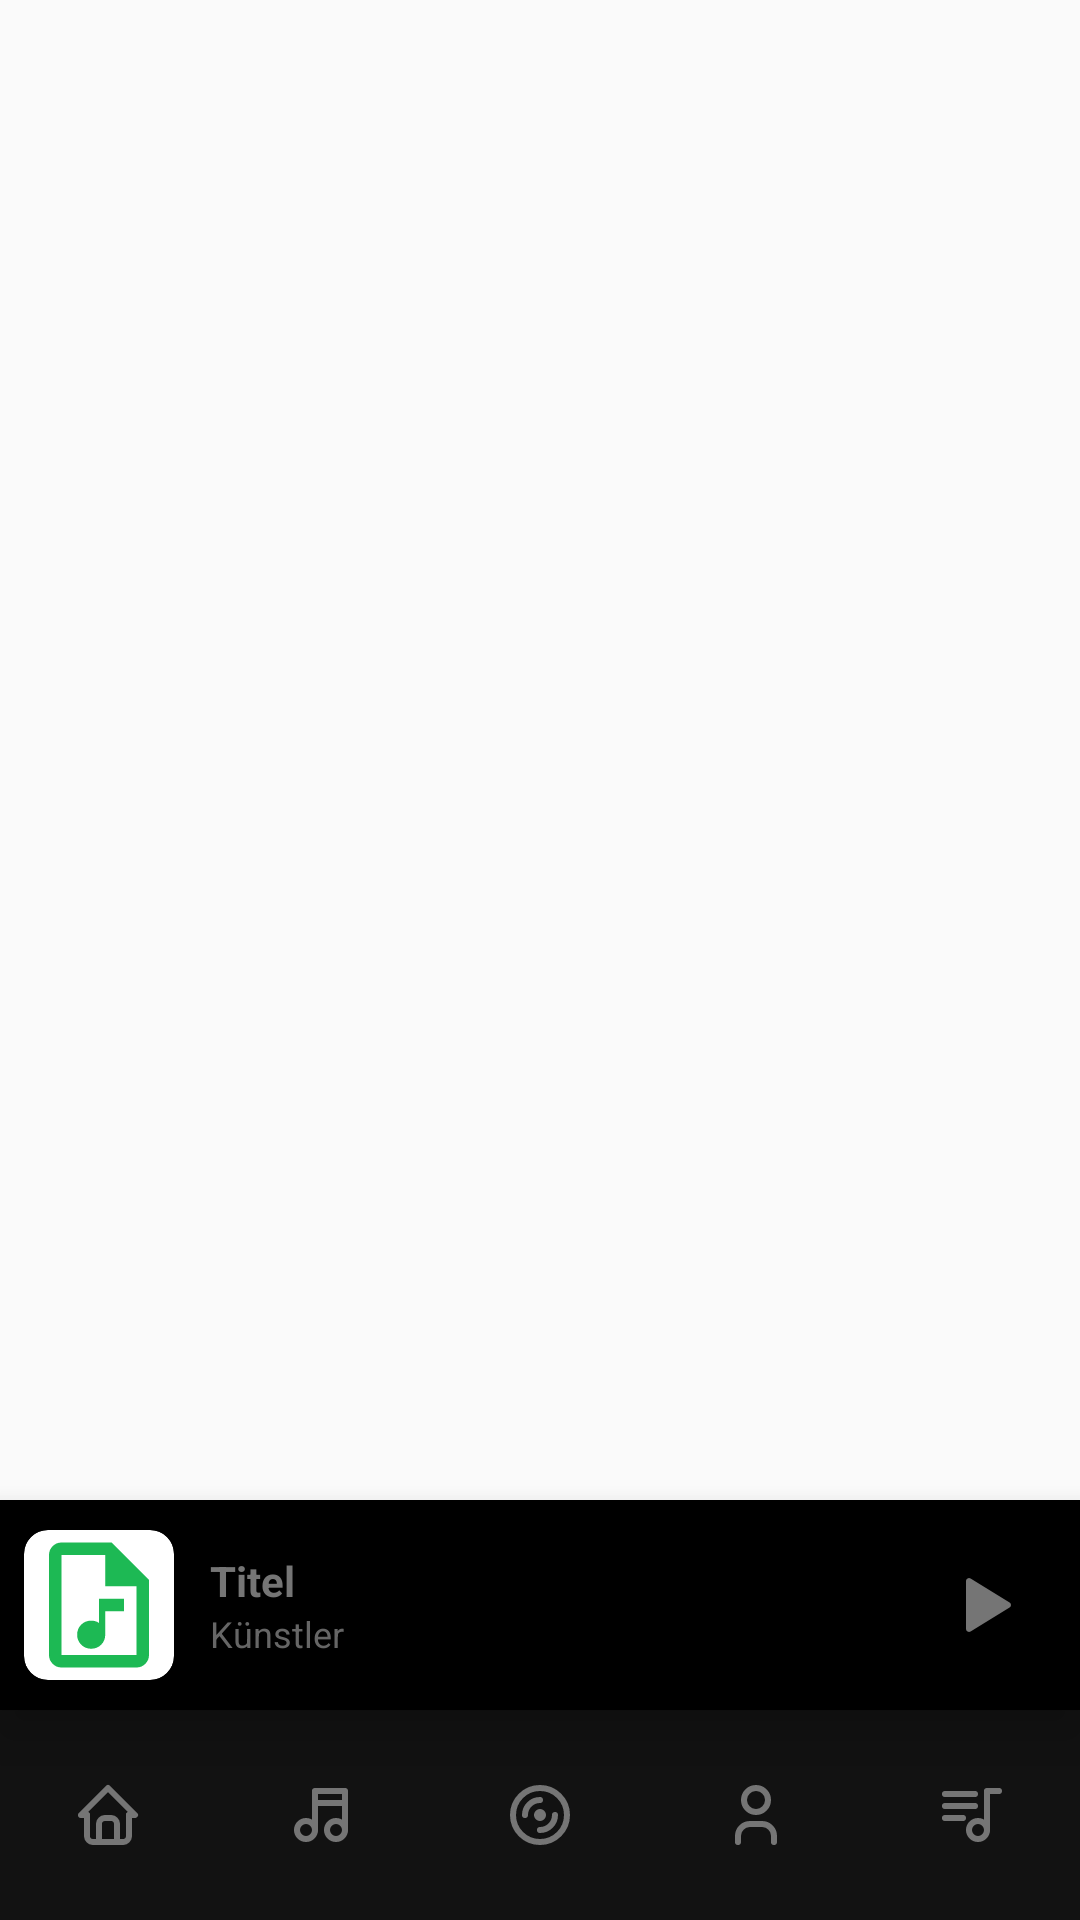

Locate icon controls on the screen. Image size 1080px x 1920px, boxes as (left=x1, top=y1, right=x2, bottom=y2).
player play: (left=966, top=1578, right=1011, bottom=1632)
